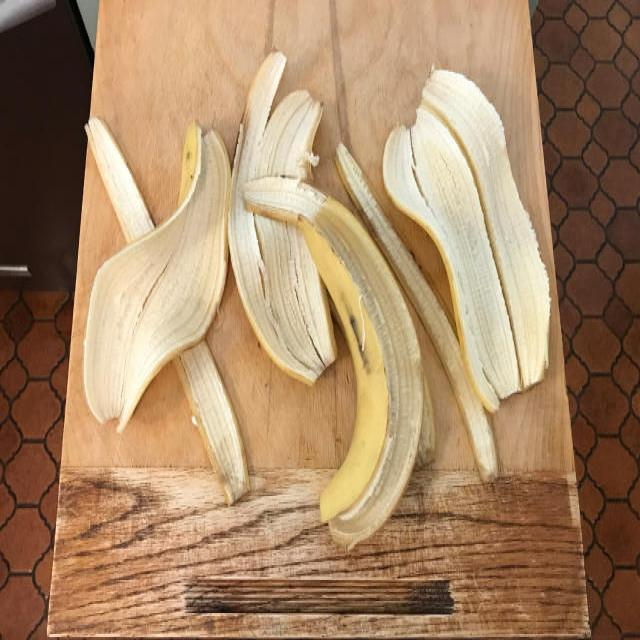Cascara de banano: (76, 53, 439, 548), (333, 68, 551, 486)
